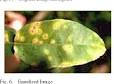Diseased_Leaves: (63, 41, 103, 59), (14, 33, 24, 56), (52, 22, 72, 31), (29, 25, 43, 35), (41, 48, 50, 55)
